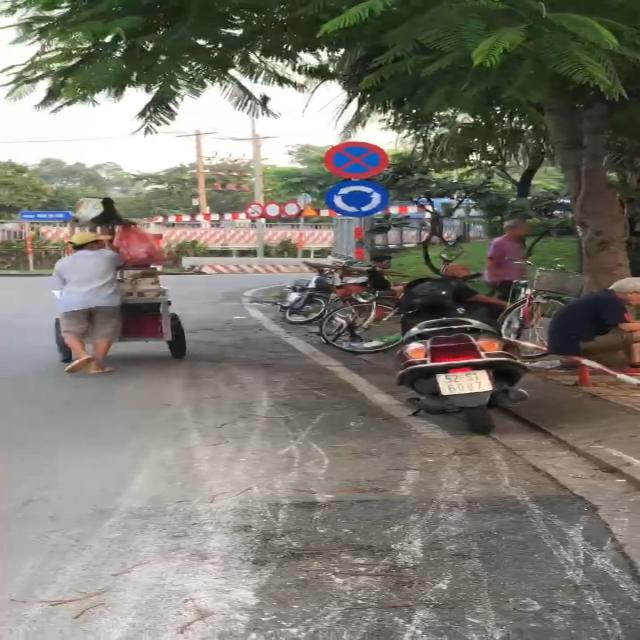Bien bao cam dung xe va do xe: (318, 139, 400, 181)
Bien bao noi giao nhau chay theo vong xuyen: (320, 179, 392, 218)
